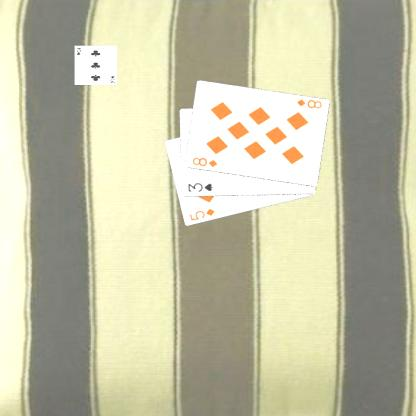3S: (185, 181, 214, 193)
5D: (186, 206, 216, 222)
8D: (294, 97, 323, 110), (190, 155, 218, 168)
